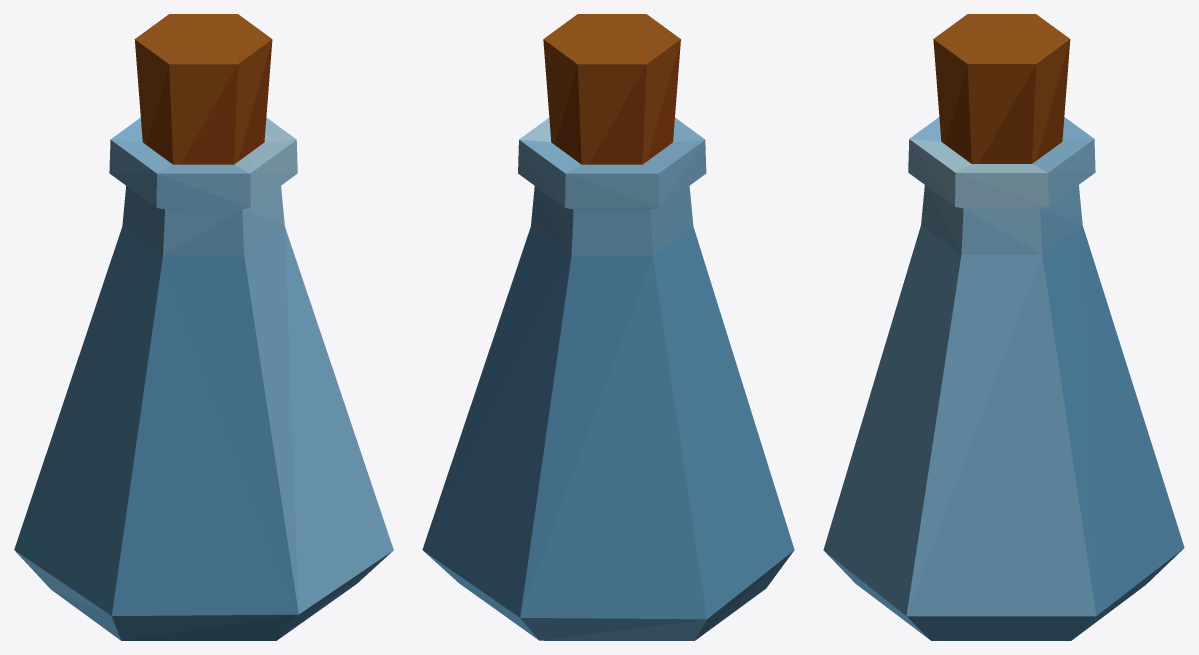
The model's file is prop_bottle_potion_empty_5.fbx.
3 renders of one model, left to right at view 1: azimuth 30°, elevation 25°; view 2: azimuth 150°, elevation 25°; view 3: azimuth 270°, elevation 25°, orthographic.
Visible parts, largest first — view 1: prop_bottle_potion_empty_5; view 2: prop_bottle_potion_empty_5; view 3: prop_bottle_potion_empty_5.
Boxes of the visible parts, <box> form: prop_bottle_potion_empty_5: <box>14,14,393,640</box>; prop_bottle_potion_empty_5: <box>422,14,794,640</box>; prop_bottle_potion_empty_5: <box>823,14,1184,640</box>.
Size of the model in its own units: 0.3602 by 0.6635 by 0.3981.
